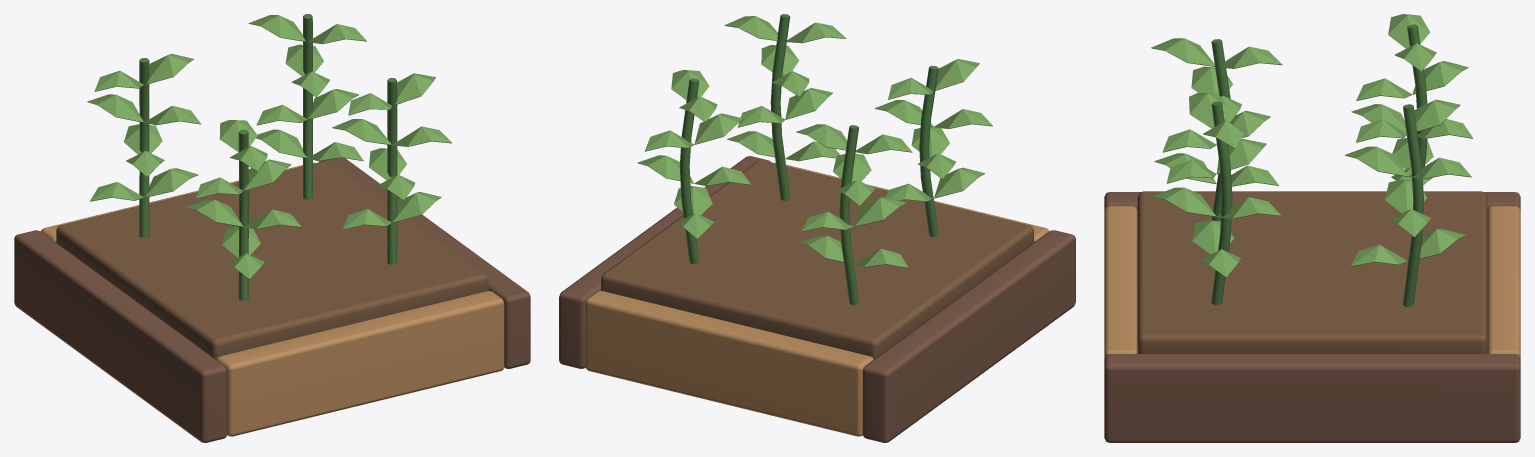
Rendered from garden.herb.mint-growing.glb.
The picture shows the model from 3 angles, left to right: view 1: azimuth 30°, elevation 25°; view 2: azimuth 150°, elevation 25°; view 3: azimuth 270°, elevation 25°; orthographic projection. The views are drawn at different scales.
Visible parts, largest first — view 1: Cedar raised bed rail; view 2: Cedar raised bed rail; view 3: Cedar raised bed rail.
Boxes of the visible parts, x1,y1,x2,y2 form: Cedar raised bed rail: [14, 14, 530, 442]; Cedar raised bed rail: [559, 14, 1075, 442]; Cedar raised bed rail: [1104, 14, 1520, 442].
Bounding box in the file's own units: 1 × 0.7812 × 1.
